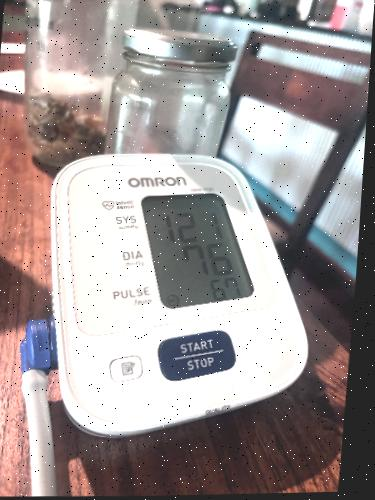bpm: (140, 177, 258, 314)
